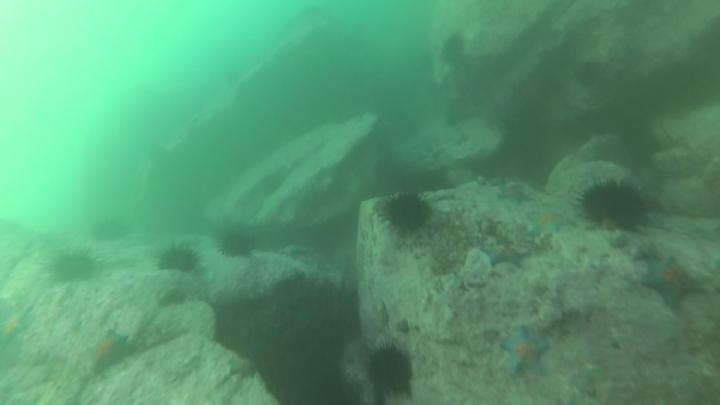echinus: (574, 179, 653, 233), (373, 188, 436, 240), (361, 341, 416, 400), (48, 247, 99, 285), (155, 243, 204, 276), (219, 227, 260, 263), (436, 32, 469, 69), (571, 60, 605, 89), (442, 97, 473, 127), (94, 219, 127, 244)
starfish: (638, 255, 709, 314), (497, 325, 555, 381), (85, 328, 132, 376), (524, 205, 575, 240), (481, 240, 532, 272), (1, 306, 31, 347), (492, 182, 538, 207), (225, 353, 263, 380)
